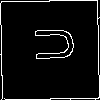U: (24, 25, 74, 63)
